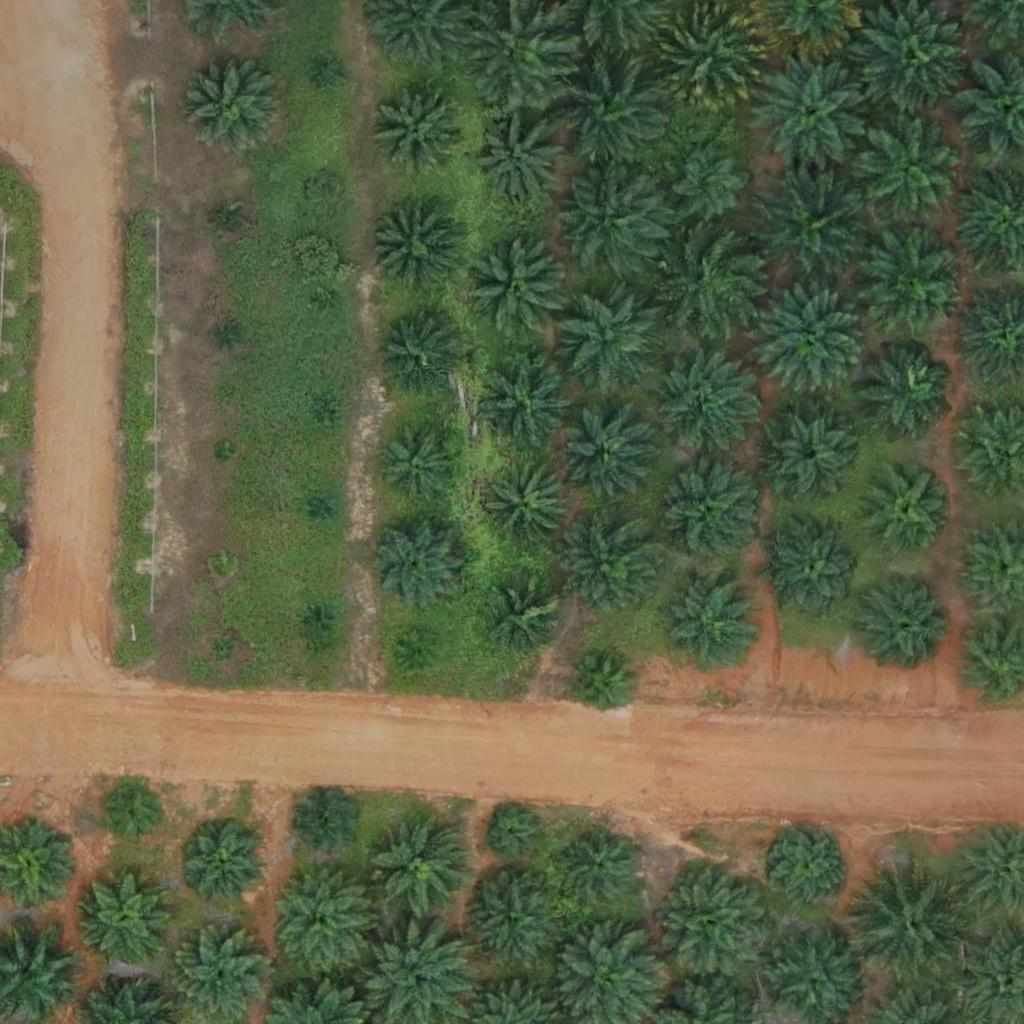Kelapa_Sawit: (651, 858, 776, 984), (850, 859, 975, 985), (753, 290, 866, 404), (855, 118, 968, 231), (753, 52, 866, 165), (750, 170, 863, 283), (554, 57, 666, 171), (558, 160, 670, 274), (360, 508, 472, 621), (866, 228, 966, 329), (557, 289, 657, 390), (466, 238, 566, 339), (474, 350, 574, 451), (179, 50, 279, 151), (561, 517, 661, 618), (655, 462, 755, 563), (660, 572, 760, 673), (271, 869, 371, 970), (371, 817, 471, 918), (460, 871, 560, 972), (855, 340, 955, 440), (662, 233, 762, 333), (655, 354, 755, 454), (766, 521, 866, 621), (858, 572, 958, 672), (378, 419, 466, 508), (763, 413, 851, 501), (375, 311, 463, 399), (484, 463, 572, 551), (82, 873, 170, 961), (181, 822, 269, 910), (564, 415, 651, 503), (476, 116, 563, 204), (376, 83, 463, 171), (369, 205, 456, 293), (866, 464, 953, 552), (671, 144, 746, 220), (772, 827, 847, 903), (491, 581, 566, 656), (563, 830, 638, 905), (570, 654, 633, 717), (293, 792, 356, 855), (103, 785, 165, 848), (488, 809, 538, 859), (307, 175, 345, 213), (400, 630, 438, 668), (320, 60, 345, 85), (316, 290, 341, 315), (310, 406, 335, 431), (216, 210, 241, 235), (216, 323, 241, 348), (212, 441, 237, 466), (208, 553, 233, 578), (211, 637, 236, 662), (311, 495, 336, 520), (304, 605, 329, 630)
